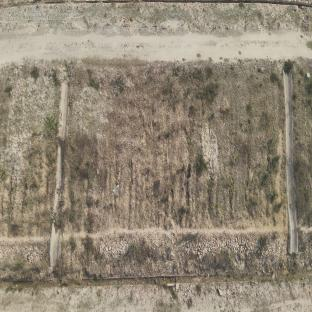rock_toe: (63, 231, 287, 276), (1, 241, 49, 268)
slope_drain: (0, 272, 310, 290), (45, 84, 71, 267), (283, 63, 298, 254)
